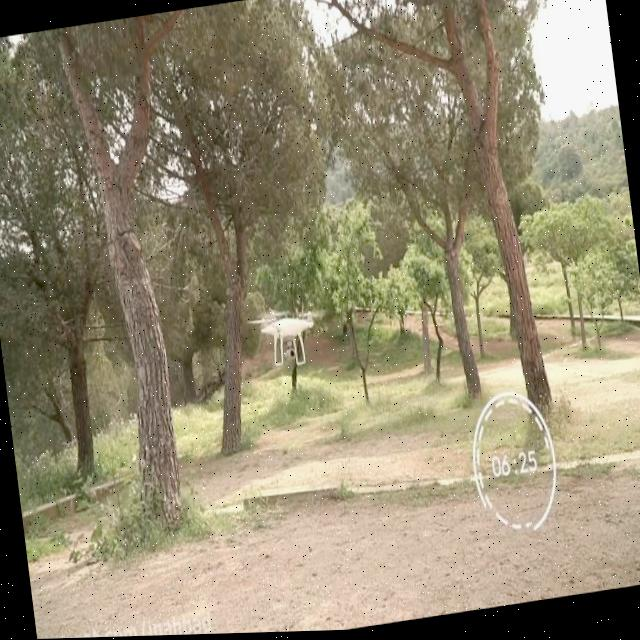drone: (242, 300, 332, 374)
